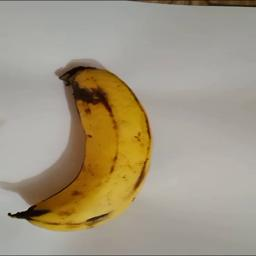Banana Semifresh: (3, 65, 156, 234)
